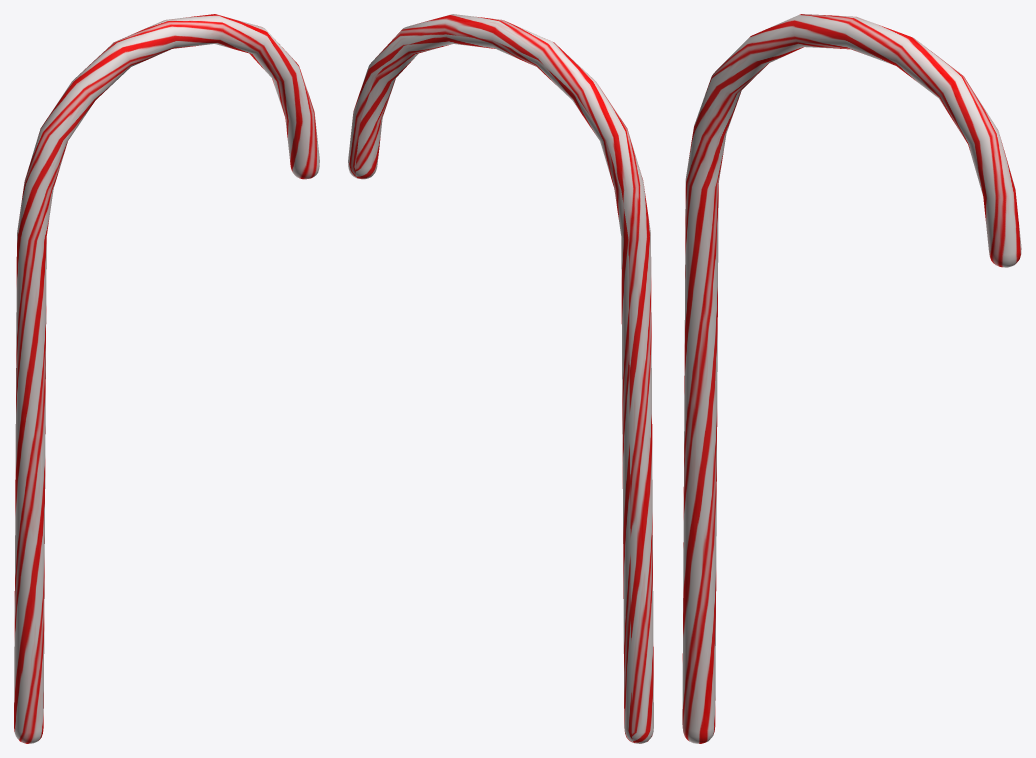
The model's file is Poste-Caramelo.fbx.
3 renders of one model, left to right at view 1: azimuth 30°, elevation 25°; view 2: azimuth 150°, elevation 25°; view 3: azimuth 330°, elevation 25°, orthographic. The views are drawn at different scales.
Visible parts, largest first — view 1: Poste_Caramelo; view 2: Poste_Caramelo; view 3: Poste_Caramelo.
Part boxes in pixels (left/top/right/bottom): Poste_Caramelo: left=14, top=14, right=319, bottom=743; Poste_Caramelo: left=348, top=14, right=653, bottom=743; Poste_Caramelo: left=682, top=14, right=1021, bottom=743.
Bounding box in the file's own units: 236 × 514 × 20.12.
